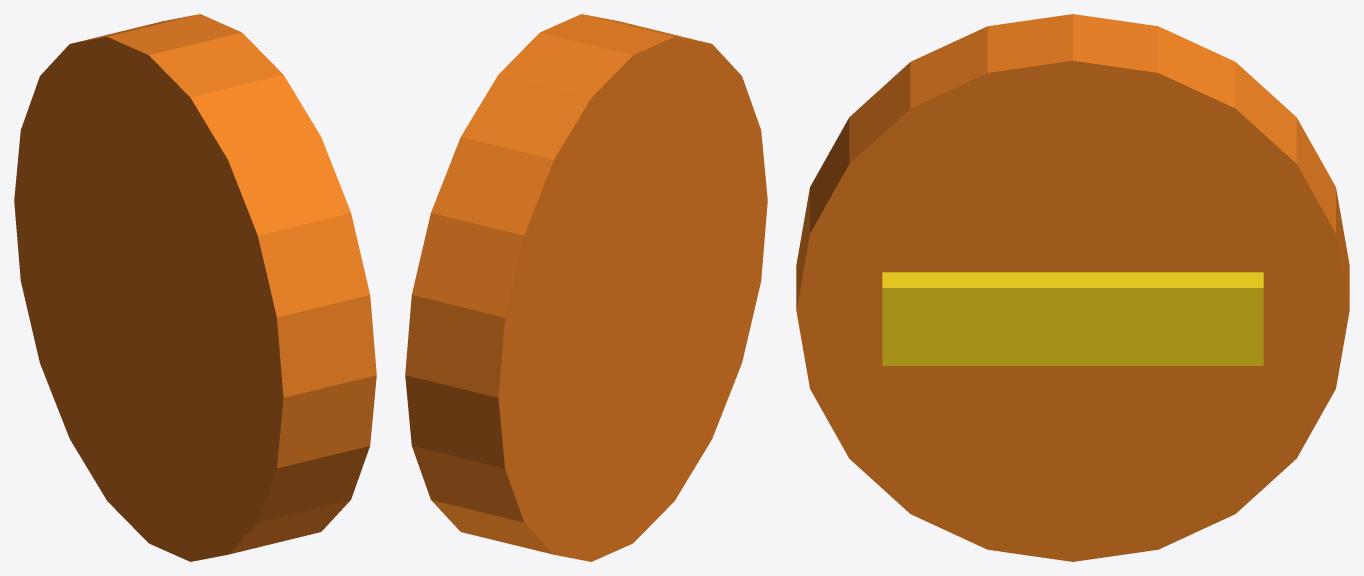
File: tinker.obj
The picture shows the model from 3 angles, left to right: view 1: azimuth 30°, elevation 25°; view 2: azimuth 150°, elevation 25°; view 3: azimuth 270°, elevation 25°; orthographic projection. The views are drawn at different scales.
Visible parts, largest first — view 1: group_0_16089887; view 2: group_0_16089887; view 3: group_0_16089887, group_0_16768282.
Boxes of the visible parts, bbox=[...] form: group_0_16089887: bbox=[14, 14, 376, 561]; group_0_16089887: bbox=[405, 14, 767, 561]; group_0_16089887: bbox=[796, 14, 1349, 561]; group_0_16768282: bbox=[882, 272, 1263, 365].
Size of the model in its own units: 12 by 45 by 45.
